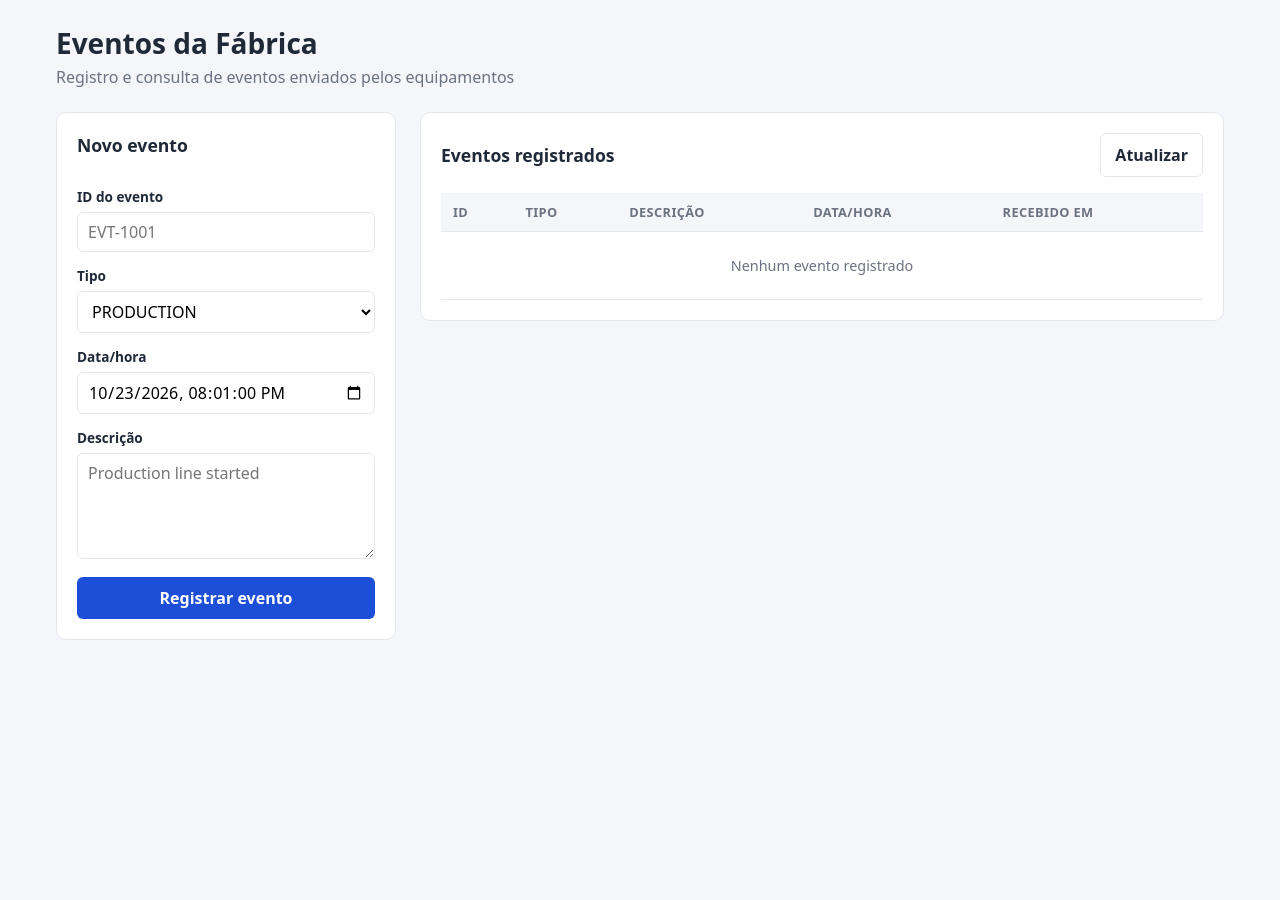
Test: App › exibe mensagem de erro quando o evento é duplicado
Expected: the text "Nenhum evento registrado" is shown, [441, 232, 1203, 300]
In the field labelled "ID do evento": (226, 232) [77, 212, 375, 252], type "EVT-9"
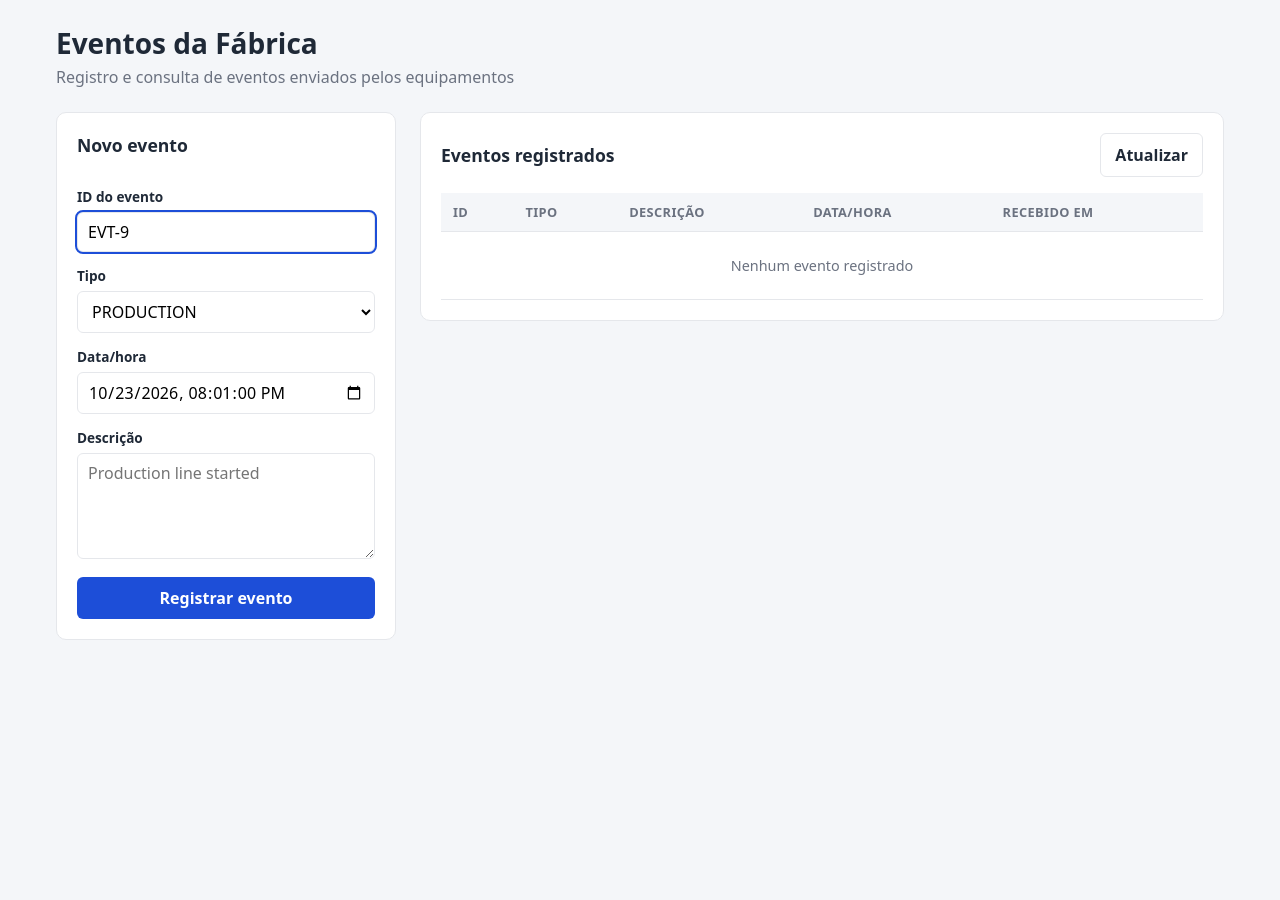
In the text box labelled "Descrição": (226, 506) [77, 453, 375, 559], type "Linha iniciada"
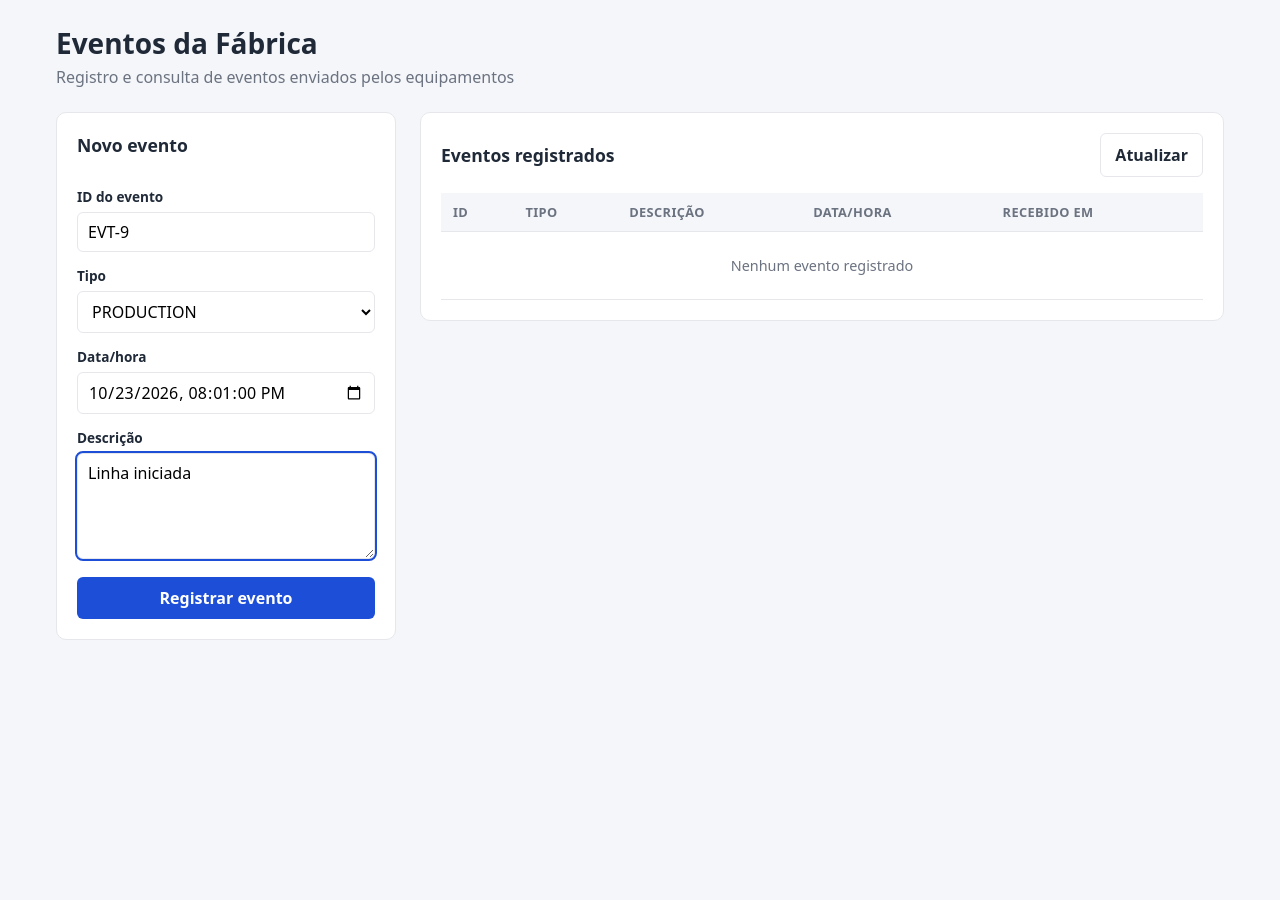
Click the button "Registrar evento": (226, 598) [77, 577, 375, 619]
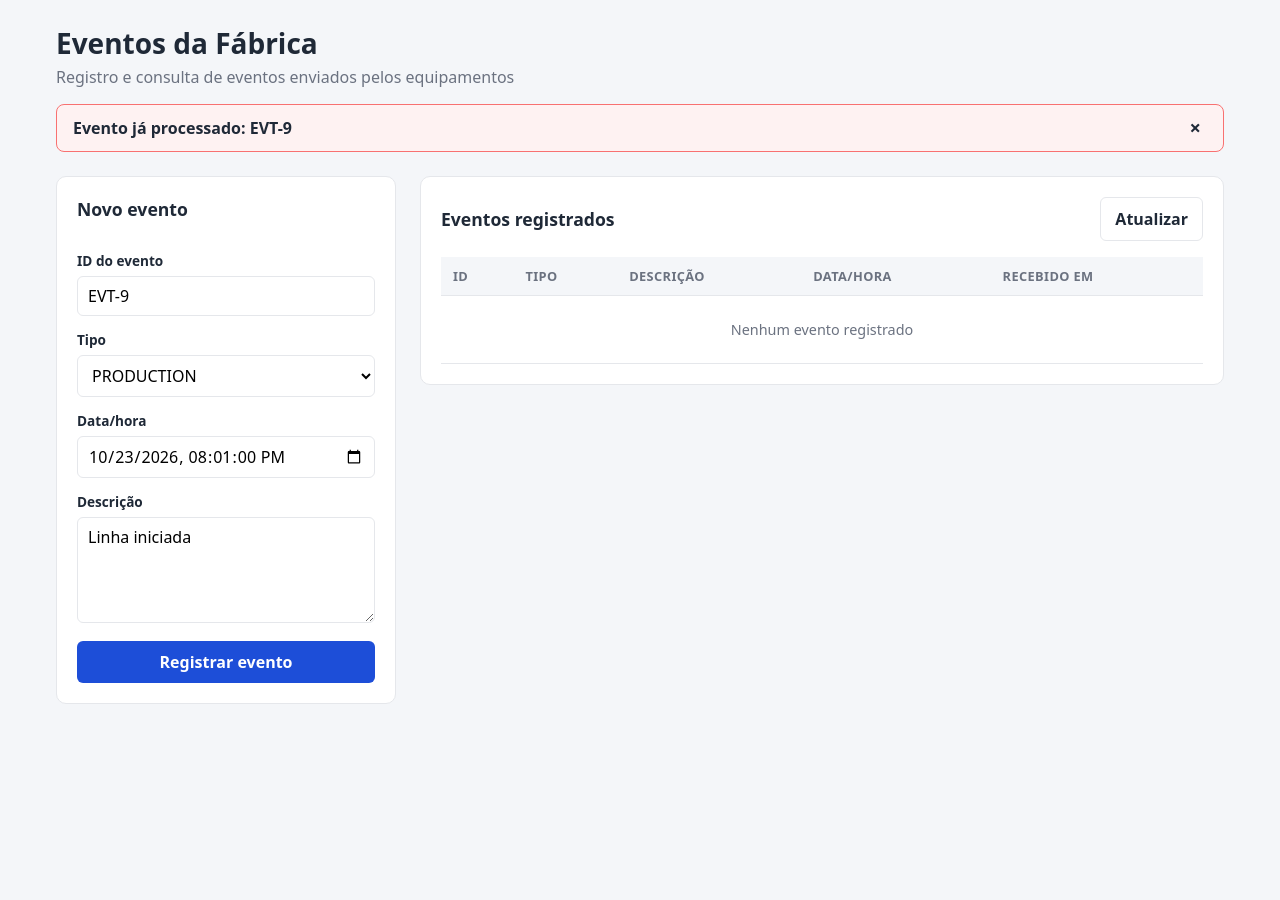
Now the message shows "Evento já processado: EVT-9", box [73, 117, 292, 139]
